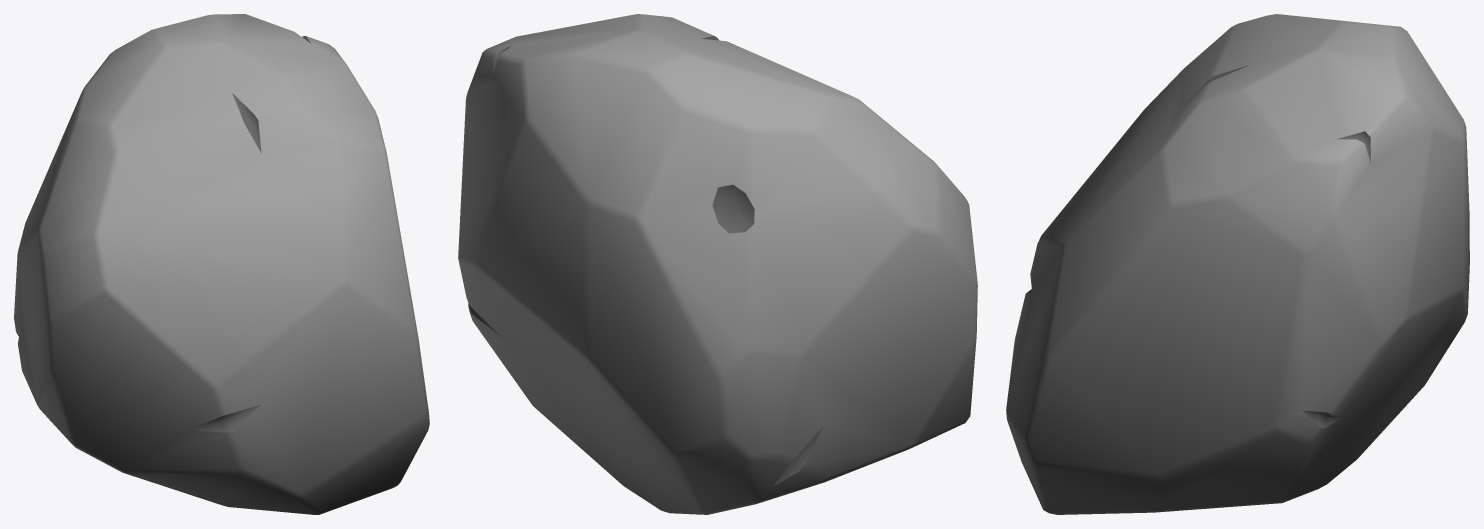
The model's file is Rock10.fbx.
The picture shows the model from 3 angles, left to right: view 1: azimuth 30°, elevation 25°; view 2: azimuth 150°, elevation 25°; view 3: azimuth 270°, elevation 25°; orthographic projection. The views are drawn at different scales.
Parts seen in each view (by area): view 1: LOD0; view 2: LOD0; view 3: LOD0.
Boxes of the visible parts, x1,y1,x2,y2 form: LOD0: (14,14,429,514); LOD0: (458,14,977,514); LOD0: (1006,14,1469,514).
Size of what is drawn, in the model's own units: 536 by 497 by 514.
